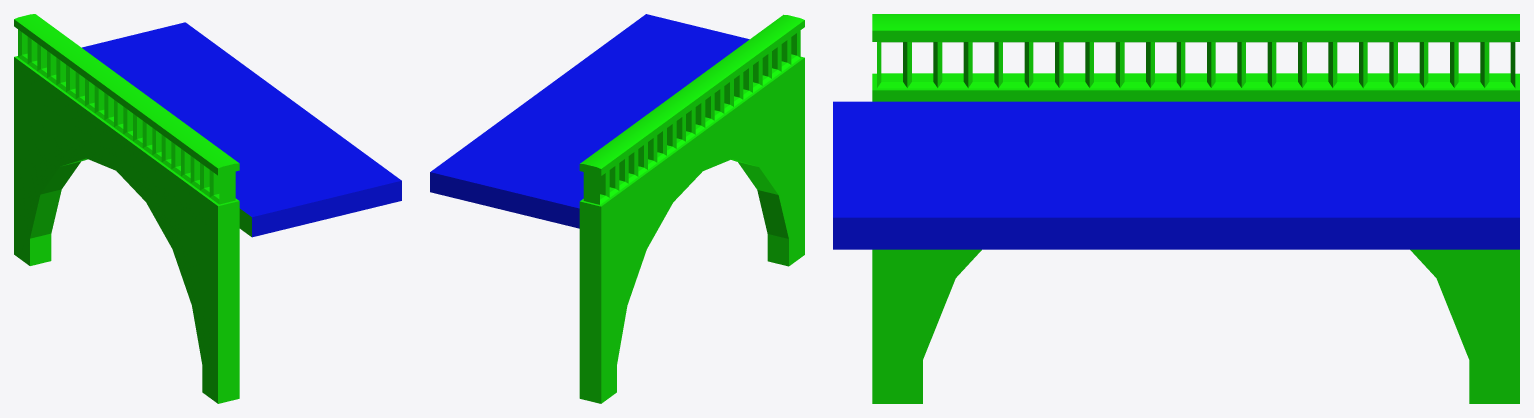
File: puente.FBX
3 renders of one model, left to right at view 1: azimuth 30°, elevation 25°; view 2: azimuth 150°, elevation 25°; view 3: azimuth 270°, elevation 25°, orthographic. The views are drawn at different scales.
Visible parts, largest first — view 1: Box005; view 2: Box005; view 3: Box005.
Part boxes in pixels (<box>): Box005: <box>14,14,401,403</box>; Box005: <box>430,14,804,403</box>; Box005: <box>833,14,1519,403</box>.
Size of the model in its own units: 80 by 105 by 175.
